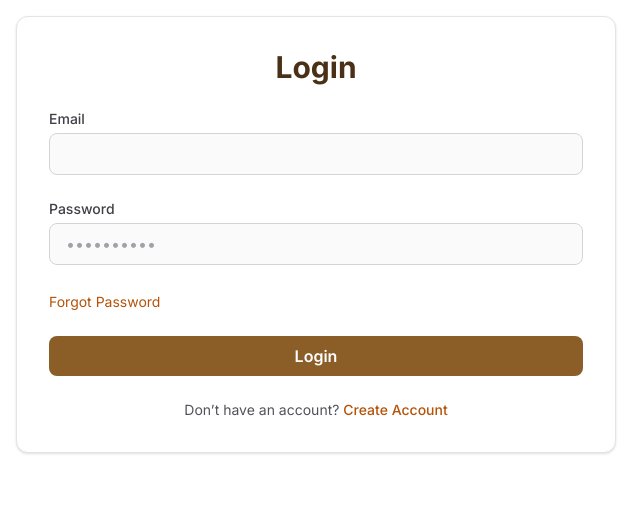
Test: LoginClient › clears validation errors when valid data is entered
Click the button "Login": (316, 356) [49,336,583,376]
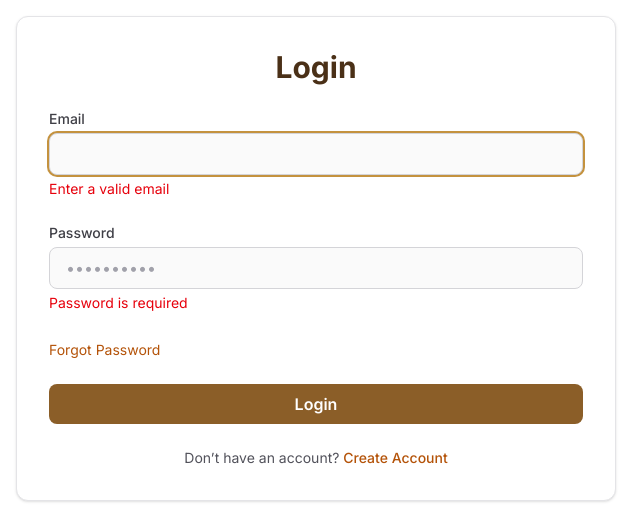
Check: the text "Enter a valid email" is shown, box [49,180,169,197]
In the field labelled "Email": (316, 154) [49,133,583,175], type "test@email.com"
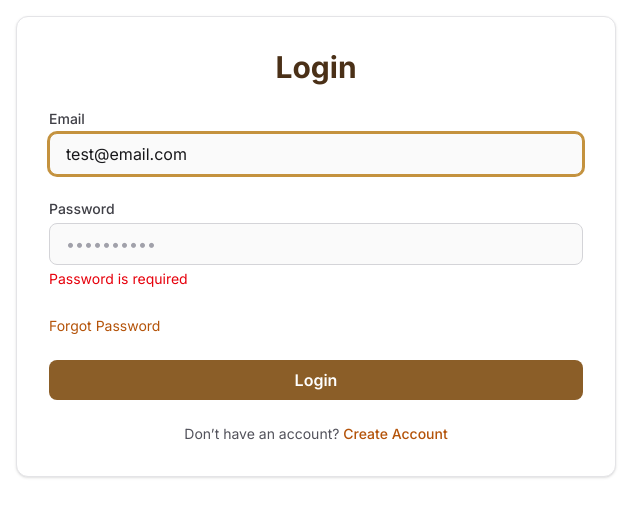
Check: the text "Enter a valid email" is gone
